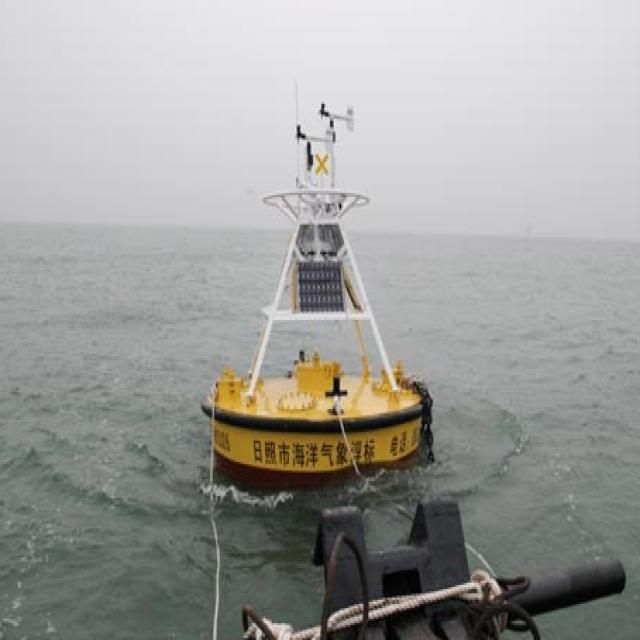buoy: (210, 88, 432, 474)
